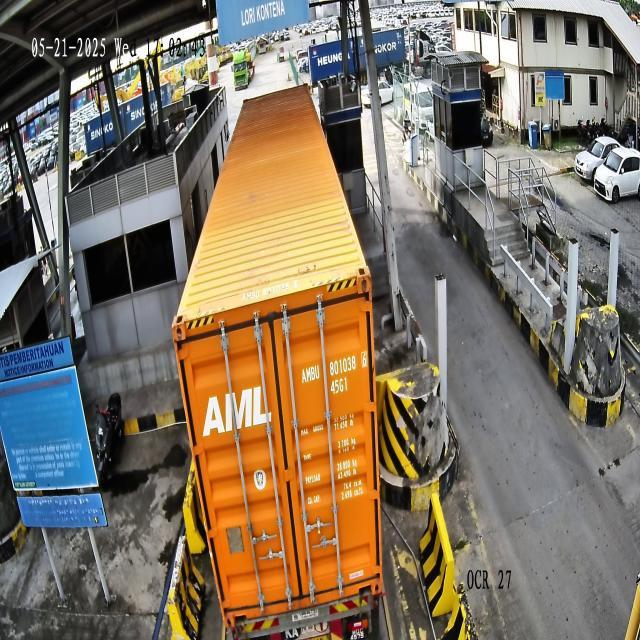ISO: (329, 375, 352, 401)
container_number: (301, 348, 370, 391)
